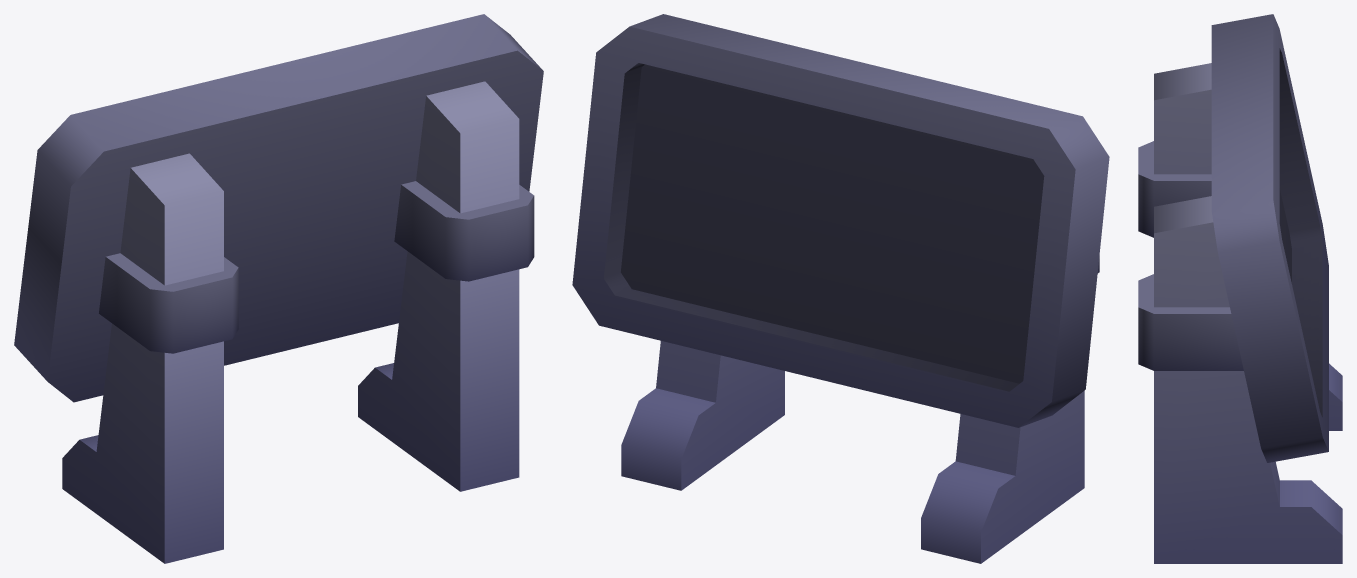
The model's file is screen-wide.glb.
The picture shows the model from 3 angles, left to right: view 1: azimuth 30°, elevation 25°; view 2: azimuth 150°, elevation 25°; view 3: azimuth 270°, elevation 25°; orthographic projection. The views are drawn at different scales.
Parts seen in each view (by area): view 1: screen-wide; view 2: screen-wide; view 3: screen-wide.
Part boxes in pixels (box(x1,y1,x2,y2)): screen-wide: box(14, 14, 543, 563); screen-wide: box(572, 14, 1109, 563); screen-wide: box(1138, 14, 1342, 563).
Size of the model in its own units: 1.2 by 0.9913 by 0.4875.
